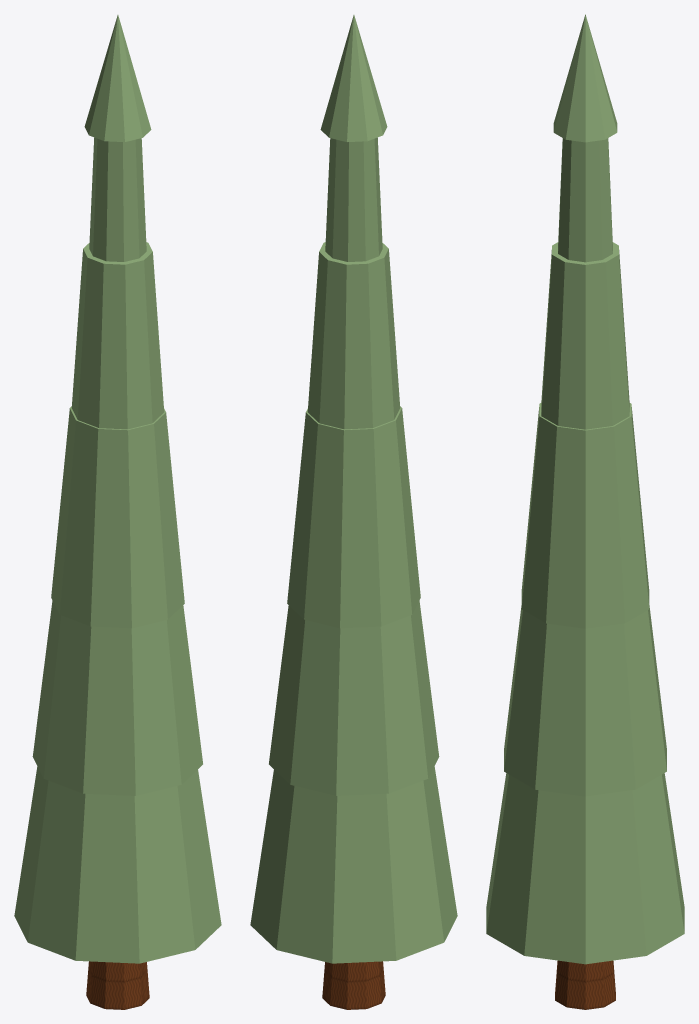
Rendered from cypress-tree.glb.
3 views of the same model, side by side, from view 1: azimuth 30°, elevation 25°; view 2: azimuth 150°, elevation 25°; view 3: azimuth 270°, elevation 25° (orthographic).
Parts seen in each view (by area): view 1: cypress-tree-leaf, cypress-tree-oak; view 2: cypress-tree-leaf, cypress-tree-oak; view 3: cypress-tree-leaf, cypress-tree-oak.
Boxes of the visible parts, x1,y1,x2,y2 form: cypress-tree-leaf: (14, 15, 221, 963); cypress-tree-oak: (86, 961, 149, 1009); cypress-tree-leaf: (250, 15, 457, 963); cypress-tree-oak: (322, 961, 385, 1009); cypress-tree-leaf: (486, 14, 684, 964); cypress-tree-oak: (555, 960, 615, 1009).
Size of the model in its own units: 1.24 by 6.45 by 1.18.
2 materials, 1 textured.
